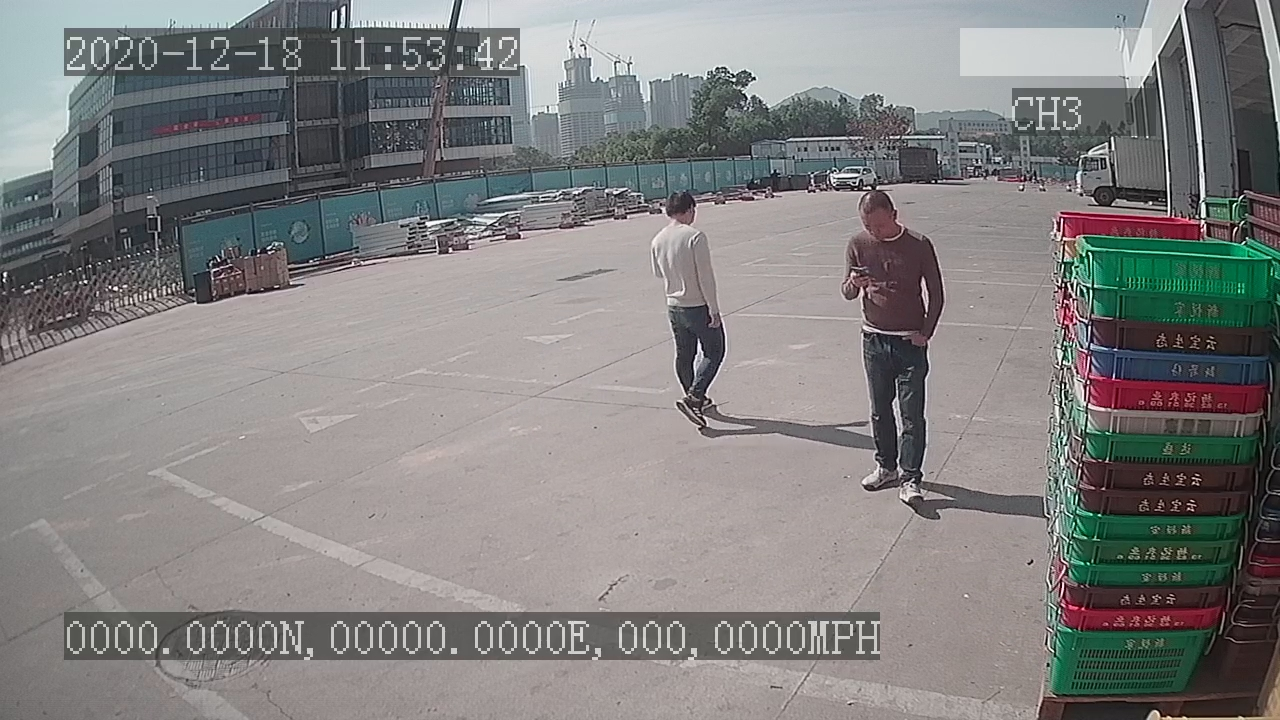person: (829, 185, 951, 517), (642, 185, 734, 444)
